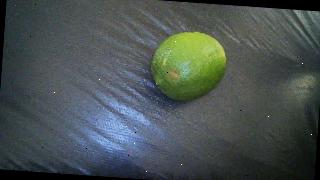DESECHO: (149, 28, 228, 103)
